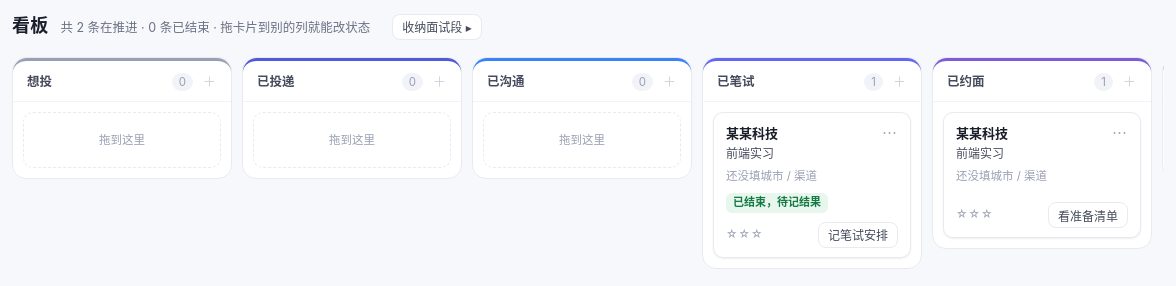
Test case: BoardView v0.8（jsdom） › 面试段三列一键收纳为计数 chip（默认展开），收纳后卡片隐藏、仍可展开
What coordinates should you click on to do the following:
click the button "收纳面试段 ▸"
I would click on:
 (437, 26)
Its box is top-left (392, 14), bottom-right (482, 40).
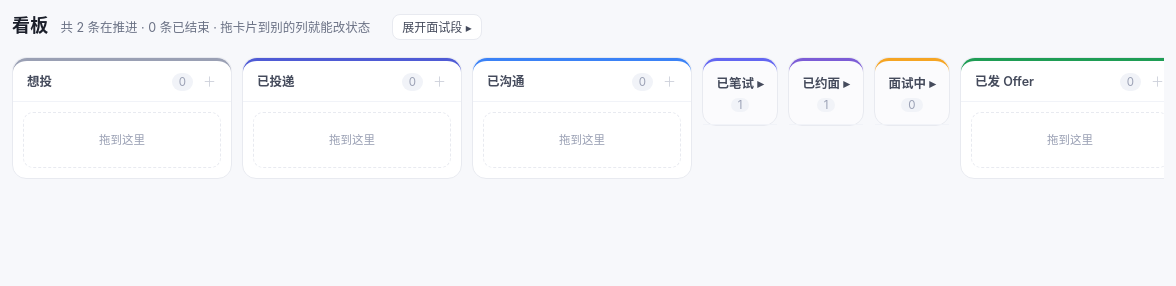
Check: the number of elements with class "board__col--folded" is 3, box top-left (702, 57), bottom-right (778, 126); top-left (788, 57), bottom-right (864, 126); top-left (874, 57), bottom-right (950, 126)
Check: the text "前端实习" is gone
What coordinates should you click on to do the following:
click the button "展开面试段 ▸"
I would click on:
 (437, 26)
Its box is top-left (392, 14), bottom-right (482, 40).
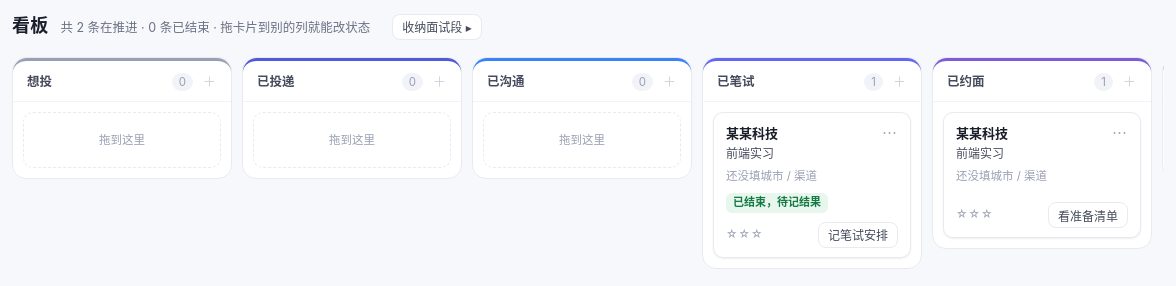
Check: the text "前端实习" is shown, box top-left (726, 146), bottom-right (774, 161)
